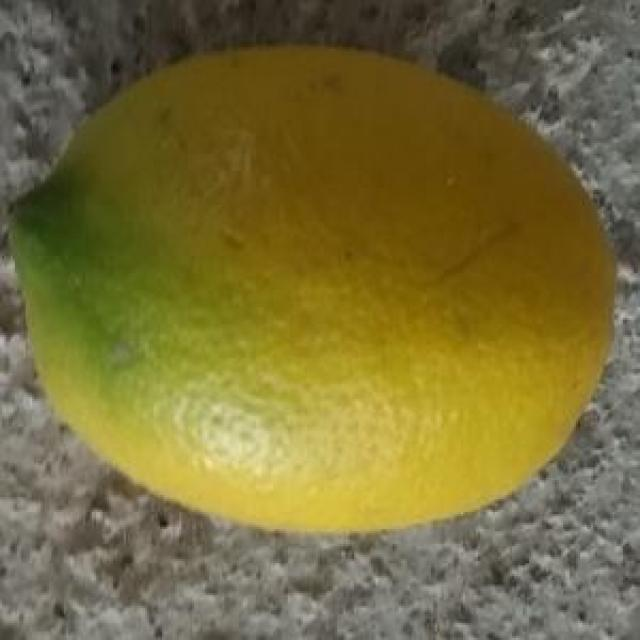lemon: (10, 43, 622, 536)
